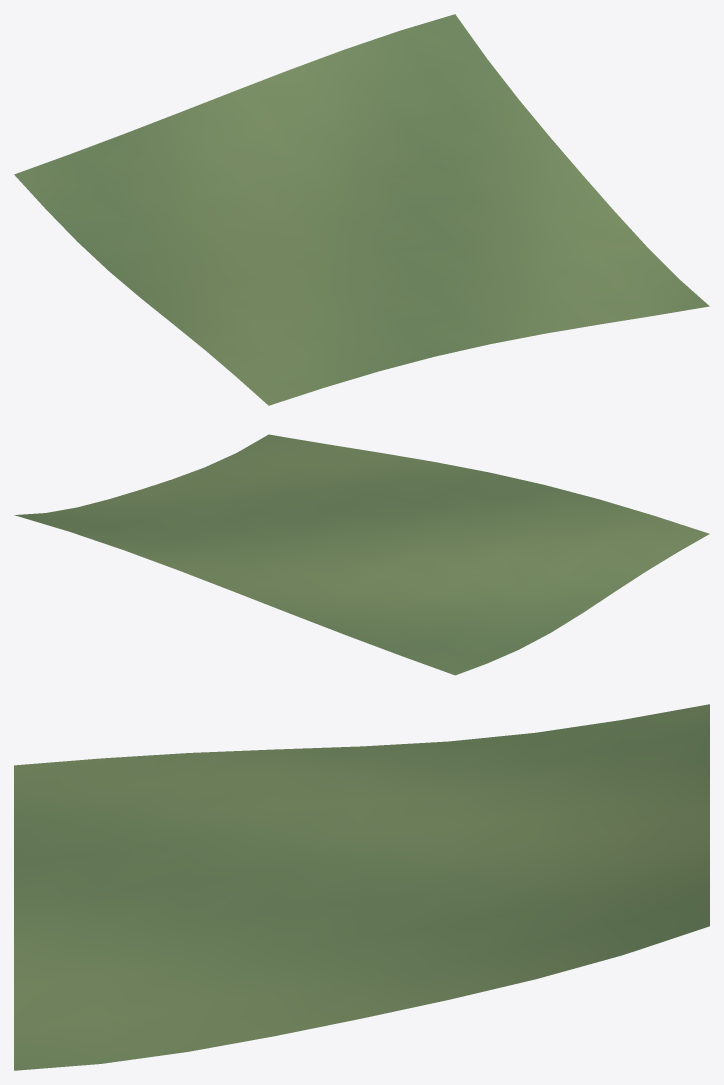
Rendered from Terrain-5-7-1.glb.
3 renders of one model, top to bottom at view 1: azimuth 30°, elevation 25°; view 2: azimuth 150°, elevation 25°; view 3: azimuth 270°, elevation 25°, orthographic. The views are drawn at different scales.
Parts seen in each view (by area): view 1: Terrain-5-7-1; view 2: Terrain-5-7-1; view 3: Terrain-5-7-1.
Part boxes in pixels (bbox=[...]): Terrain-5-7-1: bbox=[14, 14, 709, 405]; Terrain-5-7-1: bbox=[14, 434, 709, 675]; Terrain-5-7-1: bbox=[14, 704, 709, 1070].
Bounding box in the file's own units: 6 × 1.38 × 6.
